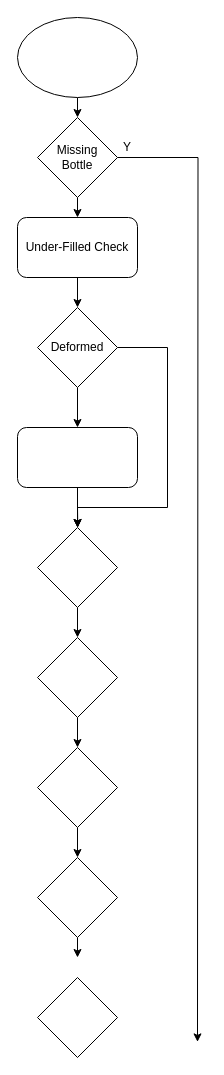
The diagram is 224 pixels wide and 1075 high, and some of its shapes have lost their labels. Here are the shapes that lost their labels. From the top down, the centre of each, then its label:
(77,57): Start
(77,457): Over-Filled Check
